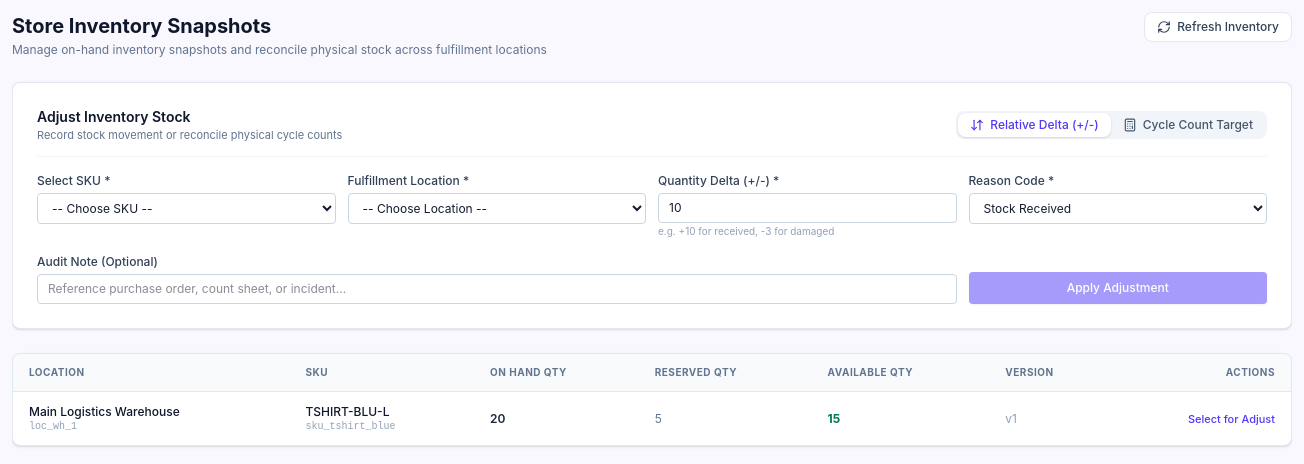
Test: StoreInventoryPage - Dual Mode Adjustments & Selectors › prefills form inputs when clicking Select for Adjust in table
The image size is (1304, 464).
Click the button "Select for Adjust" at [1231, 419], box [1188, 412, 1275, 426]
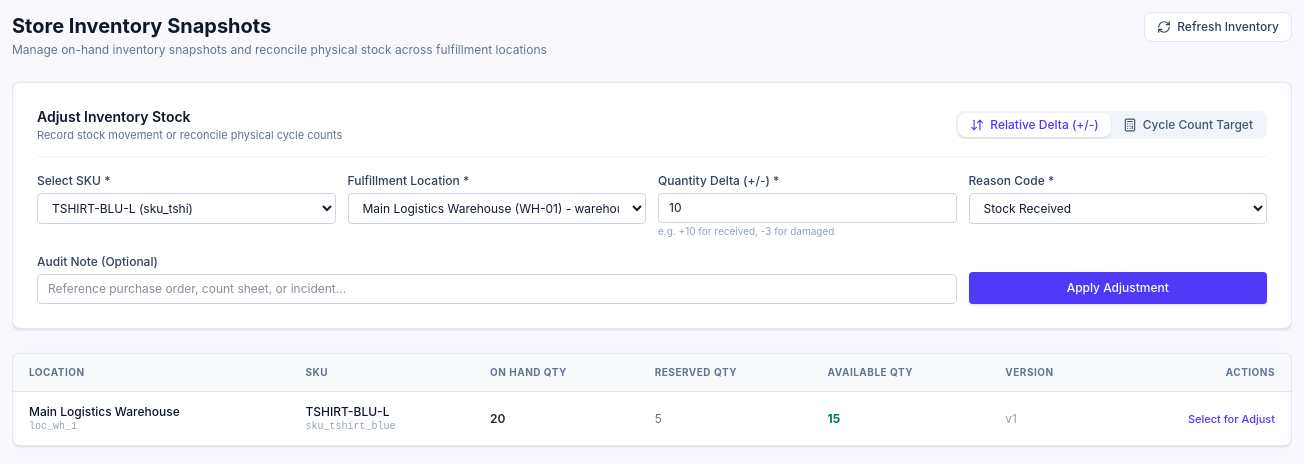
Expected: the dropdown with test id "sku-select" shows "TSHIRT-BLU-L (sku_tshi)", [37, 192, 336, 224]
Expected: the dropdown with test id "location-select" shows "Main Logistics Warehouse (WH-01) - warehouse", [348, 192, 646, 224]
